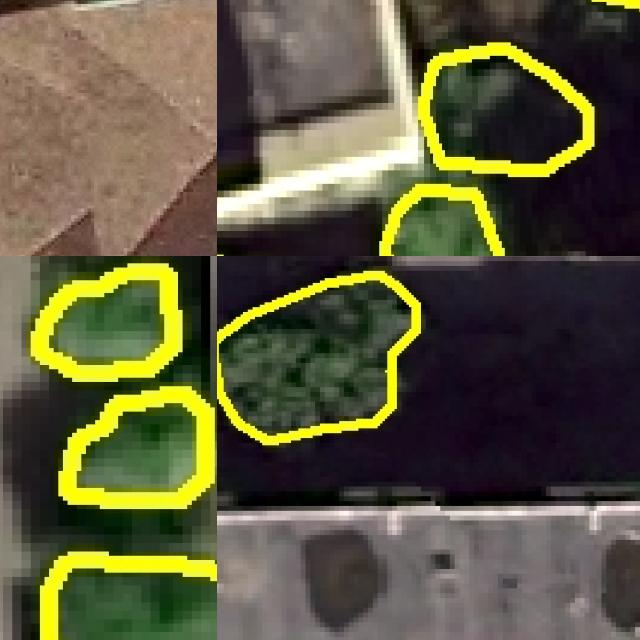trees: (218, 274, 417, 442), (419, 47, 589, 171), (64, 391, 211, 502), (36, 268, 174, 374), (45, 557, 218, 640), (383, 188, 501, 257)
